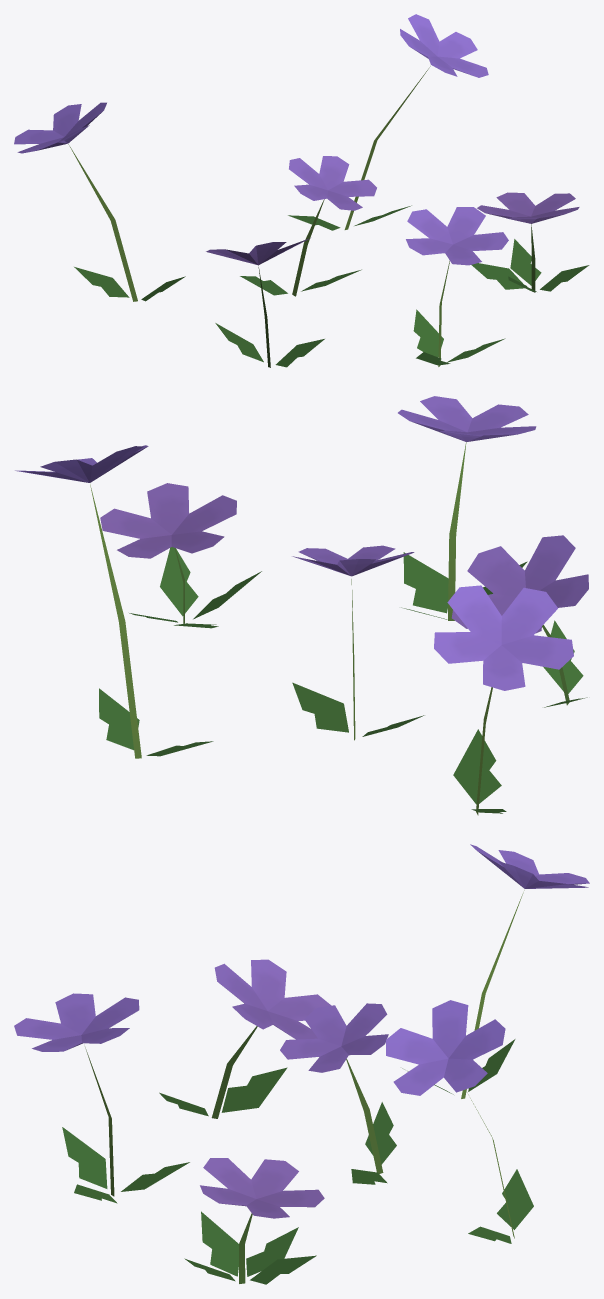
The model's file is flower_scatter_1_violet.glb.
3 renders of one model, top to bottom at view 1: azimuth 30°, elevation 25°; view 2: azimuth 150°, elevation 25°; view 3: azimuth 270°, elevation 25°, orthographic. The views are drawn at different scales.
Parts seen in each view (by area): view 1: flower_scatter_1_violet; view 2: flower_scatter_1_violet; view 3: flower_scatter_1_violet.
Boxes of the visible parts, left/top/right/bottom form: flower_scatter_1_violet: left=14, top=14, right=589, bottom=367; flower_scatter_1_violet: left=15, top=396, right=588, bottom=815; flower_scatter_1_violet: left=14, top=844, right=589, bottom=1284.
Bounding box in the file's own units: 0.5 × 0.22 × 0.45.
2 materials, 2 textured.
